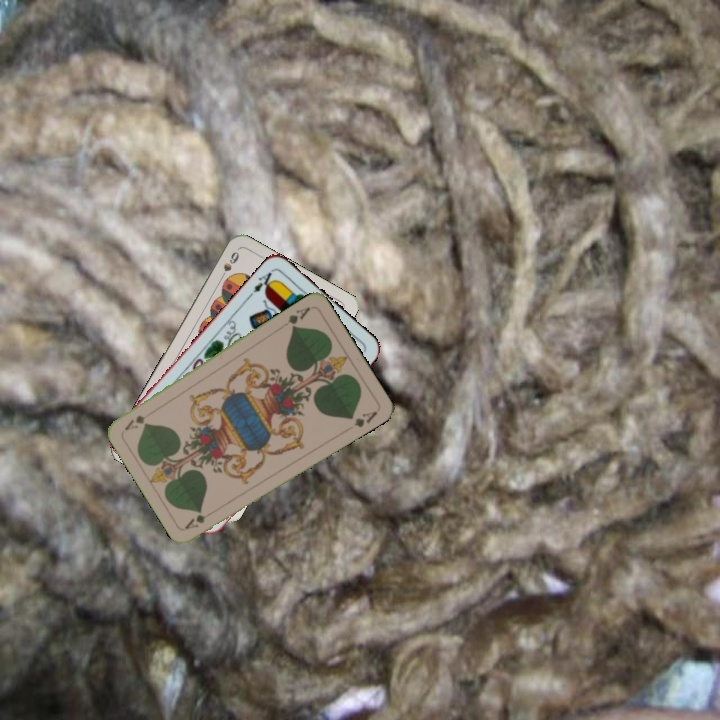EA: (245, 266, 279, 299)
GA: (181, 506, 219, 532), (278, 303, 313, 331)
S9: (215, 247, 242, 284)
